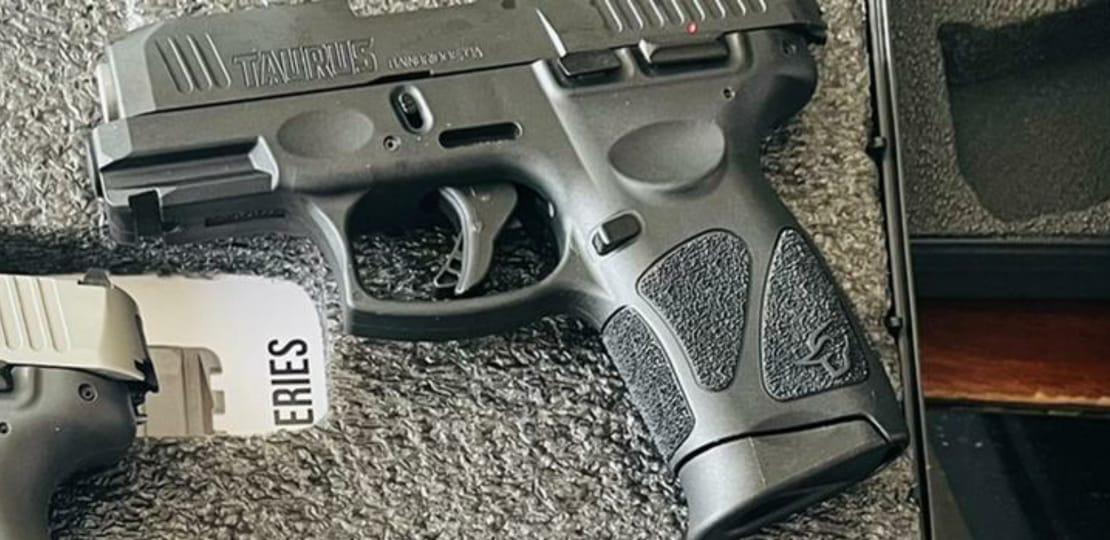weapon: (84, 0, 912, 540)
